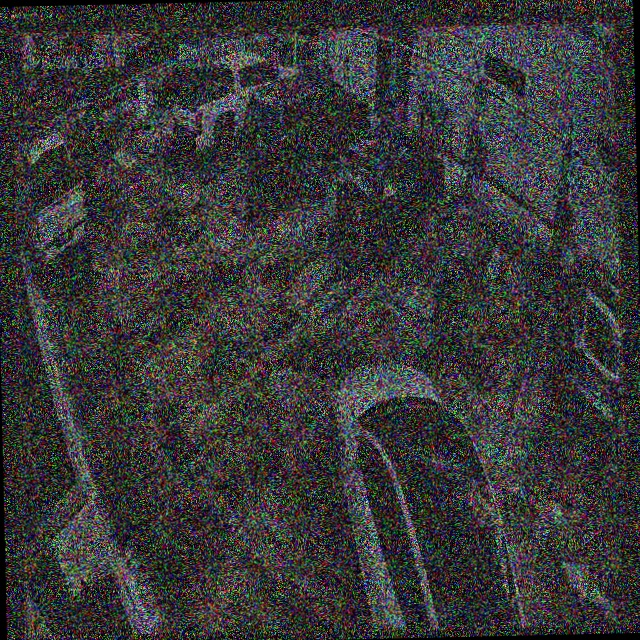Car: (324, 353, 527, 632), (240, 70, 372, 197), (335, 122, 444, 257), (172, 50, 297, 160)
